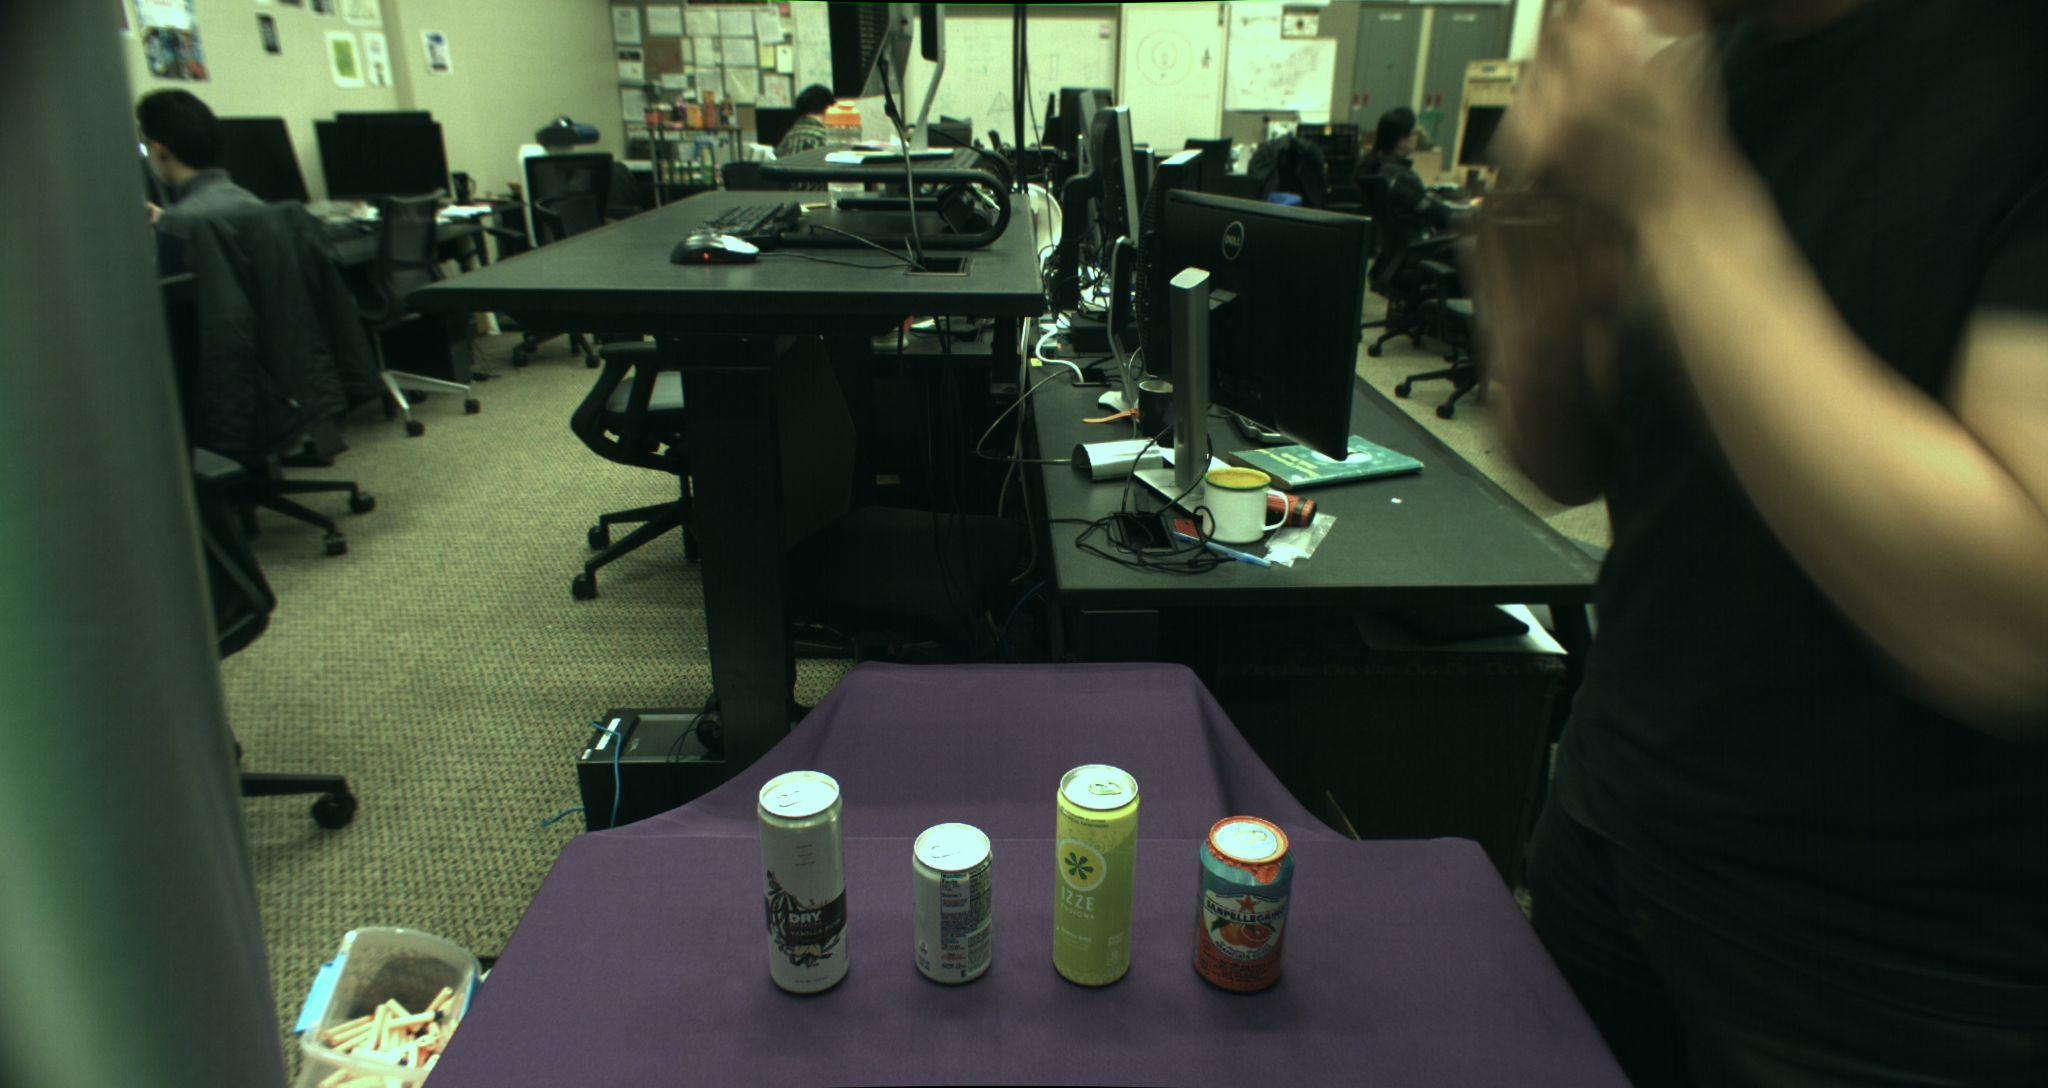can_diet_coke_small: (912, 821, 994, 986)
can_dry_sparkling_vanilla_bean: (756, 770, 849, 995)
can_izze_fusions_lemon_lime: (1052, 763, 1140, 988)
can_sanpellegrino_blood_orange: (1191, 814, 1294, 995)
